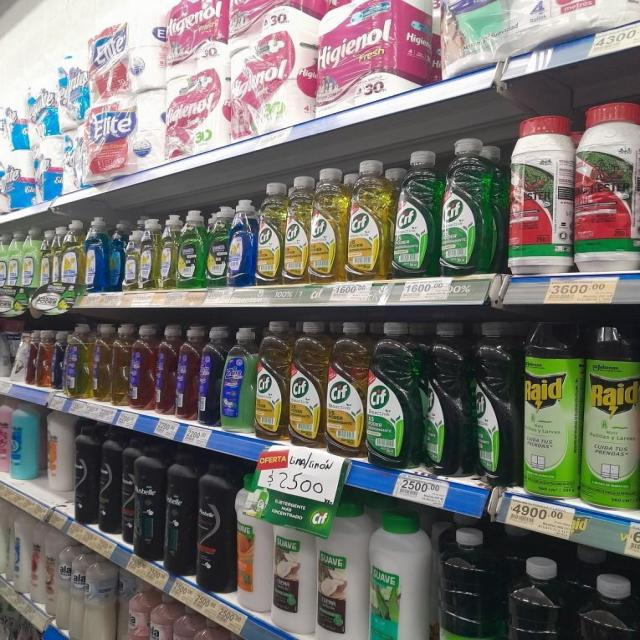ala_conc_rojo: (192, 618, 220, 640)
ala_crem_blanco: (84, 555, 116, 640), (55, 540, 70, 634), (70, 548, 84, 640)
cif_conc_bot_amarilla: (325, 321, 365, 455), (347, 158, 390, 281), (290, 320, 324, 446), (310, 167, 345, 283), (255, 320, 288, 441), (257, 182, 283, 286), (284, 175, 308, 284)
cif_conc_botella_verde: (440, 137, 498, 275), (366, 321, 420, 468), (392, 149, 438, 278)
magistral_con_amarillo: (62, 220, 82, 299), (140, 217, 159, 290), (160, 214, 177, 290), (39, 226, 53, 317), (124, 221, 140, 291), (51, 225, 60, 316), (0, 232, 7, 317)
magistral_con_azul: (228, 198, 256, 288), (85, 216, 107, 294), (108, 219, 124, 292)
zorro: (64, 324, 90, 398)
